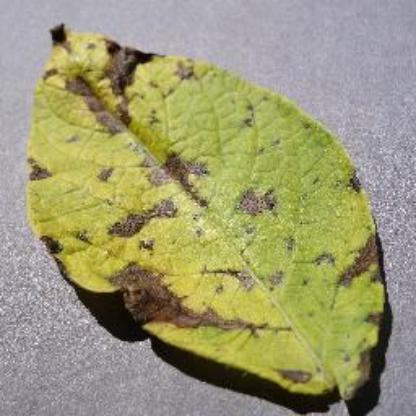Early-Blight: (27, 16, 390, 406)
